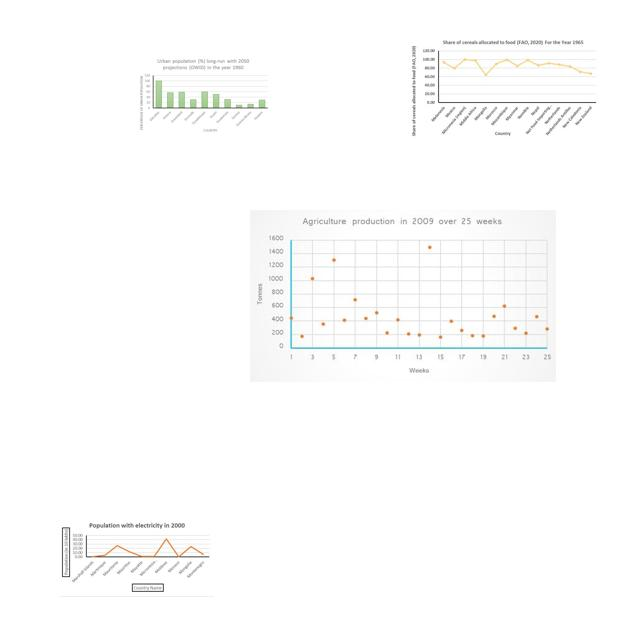Graph: (250, 210, 556, 382), (406, 37, 603, 144), (60, 518, 214, 597), (137, 57, 270, 134)
